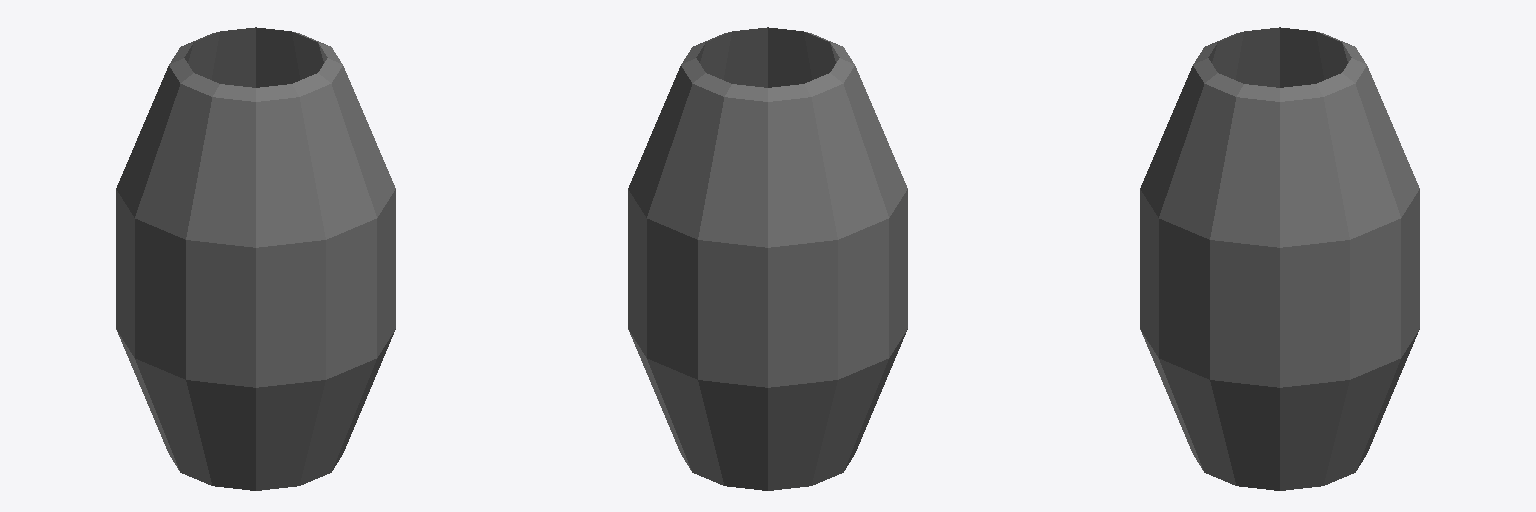
File: jarron.obj
3 renders of one model, left to right at view 1: azimuth 30°, elevation 25°; view 2: azimuth 150°, elevation 25°; view 3: azimuth 270°, elevation 25°, orthographic.
Bounding box in the file's own units: 1.04 × 1.63 × 1.04.